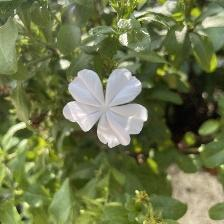chitrak: (63, 67, 148, 150)
